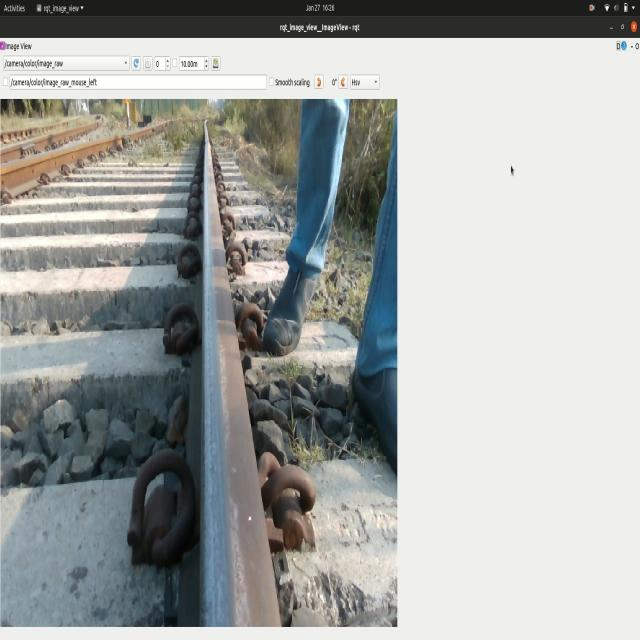correct: (259, 427, 345, 577)
